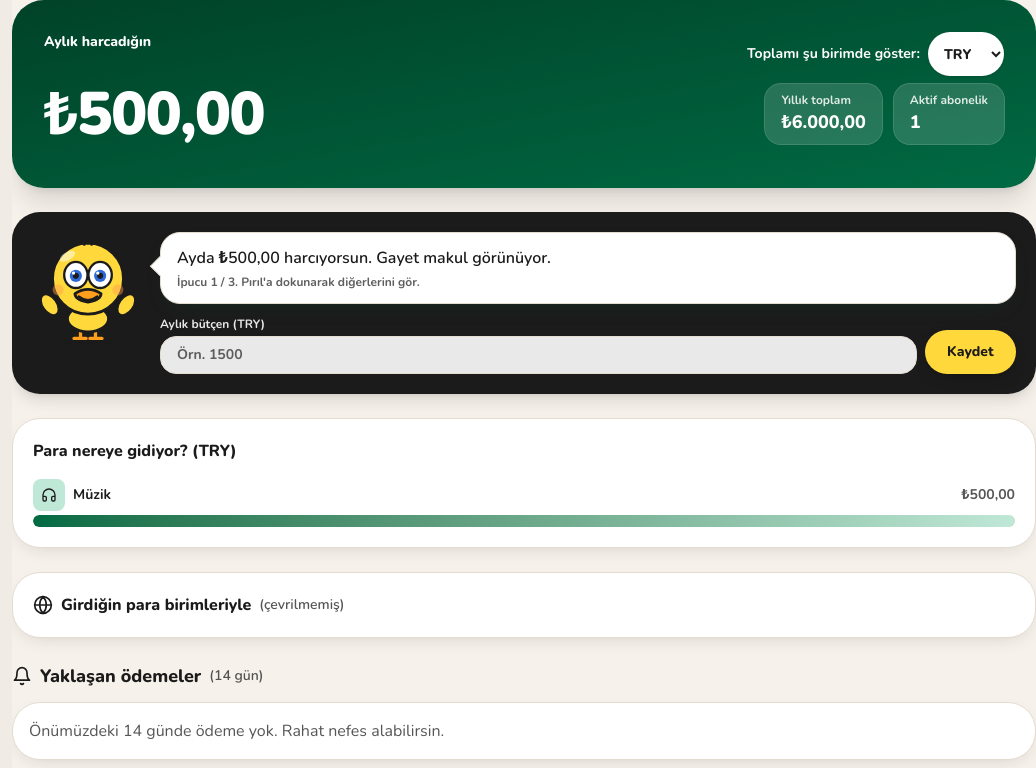
Test: Dashboard › mascot advice › shows the next tip when the character is tapped
Expected: the text "Gayet makul" is shown, [177,247,551,269]
Click the button named "Pırıl'a dokun" at (88, 288), box [32,232,144,344]
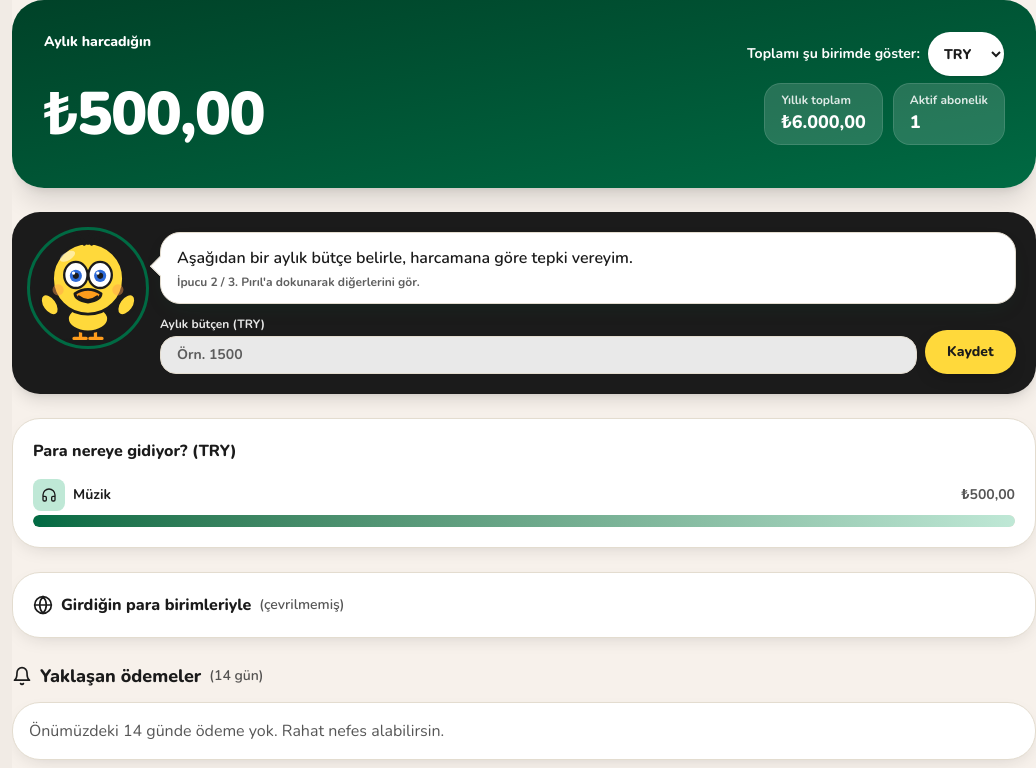
Result: the text "bütçe belirle" is shown at [177,247,633,269]
